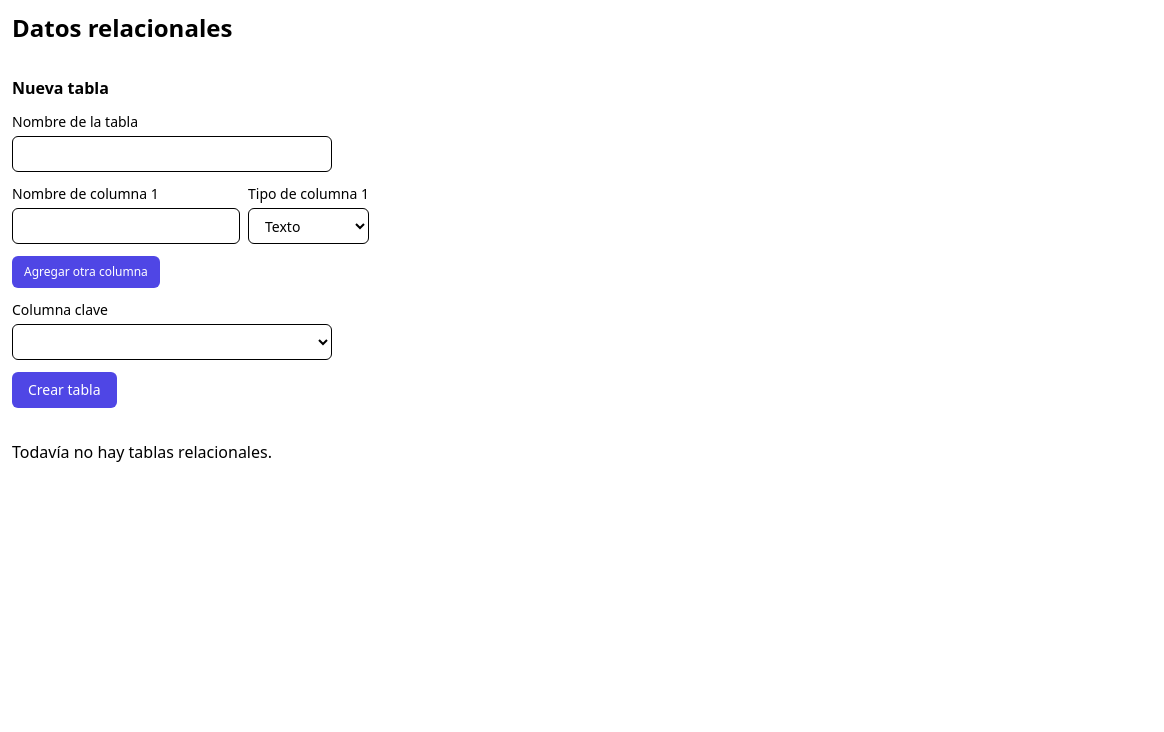
Test: relational tables › creates the "mascotas" table with typed columns
expect the text "Todavía no hay tablas relacionales." is shown: met, box [12,441,272,463]
Type "mascotas" into the field labelled "Nombre de la tabla" at {"x": 172, "y": 154}, box [12,136,332,172]
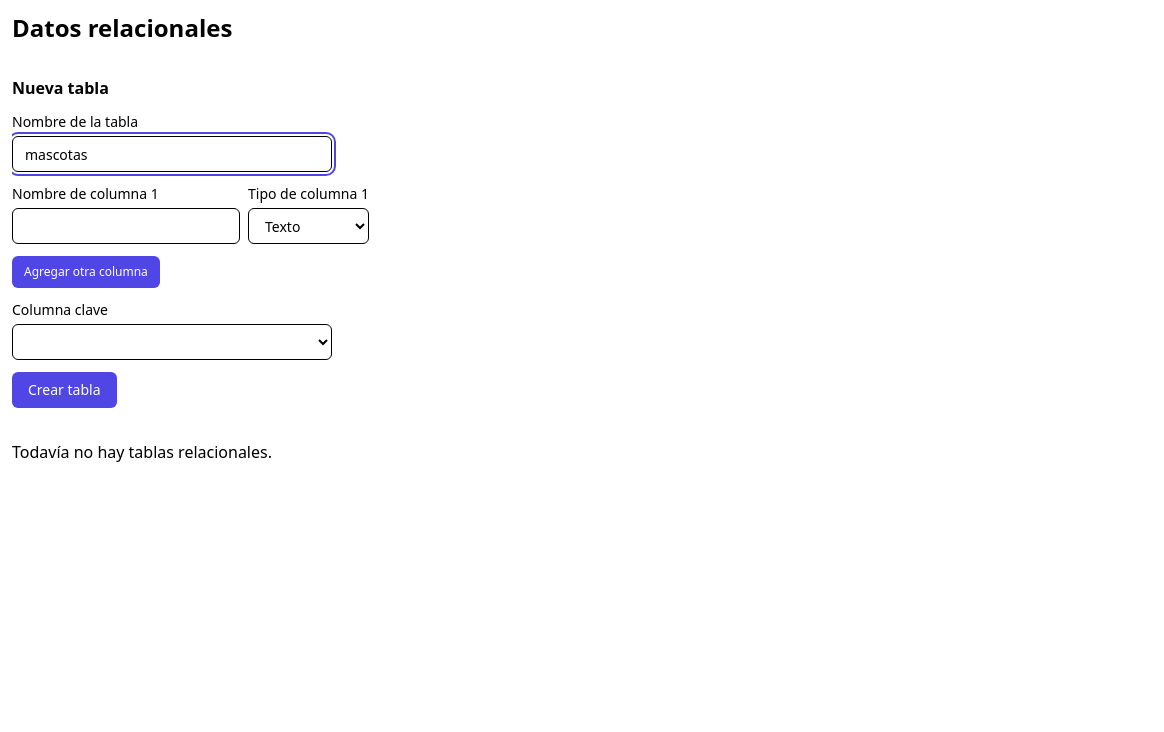
Type "nombre" into the field labelled "Nombre de columna 1" at {"x": 126, "y": 226}, box [12,208,240,244]
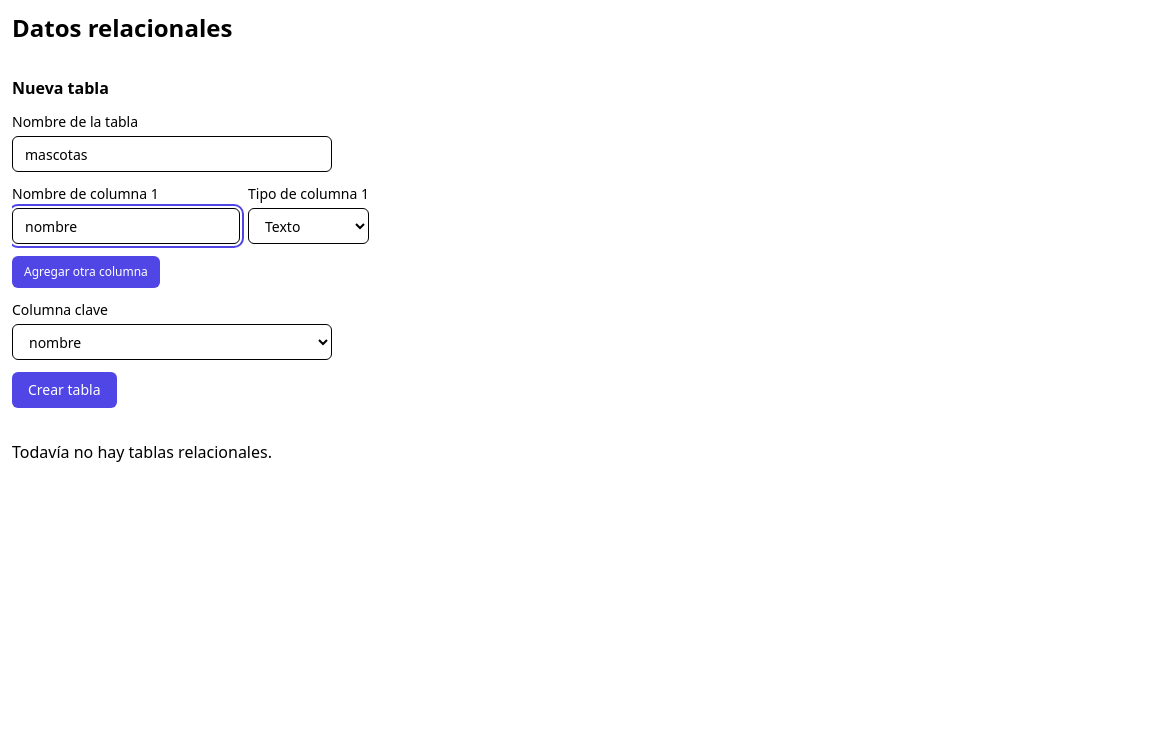
Click the button "Agregar otra columna" at {"x": 86, "y": 272}, box [12,256,160,288]
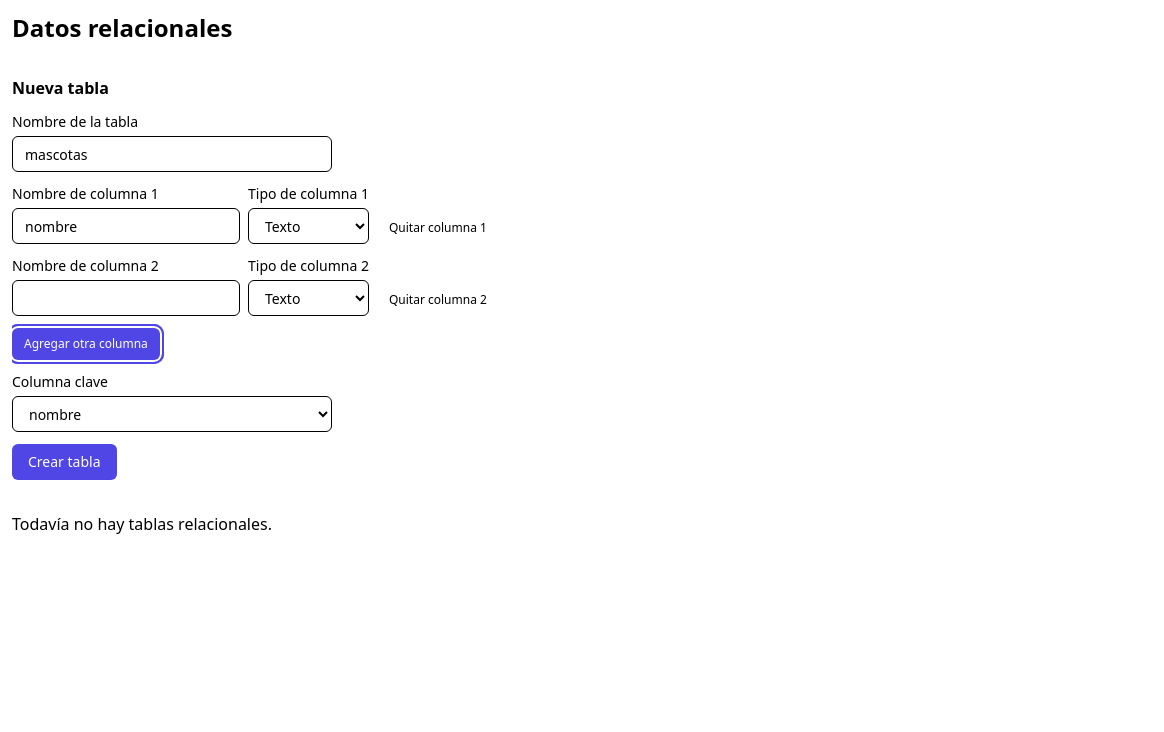
Type "especie" into the field labelled "Nombre de columna 2" at {"x": 126, "y": 298}, box [12,280,240,316]
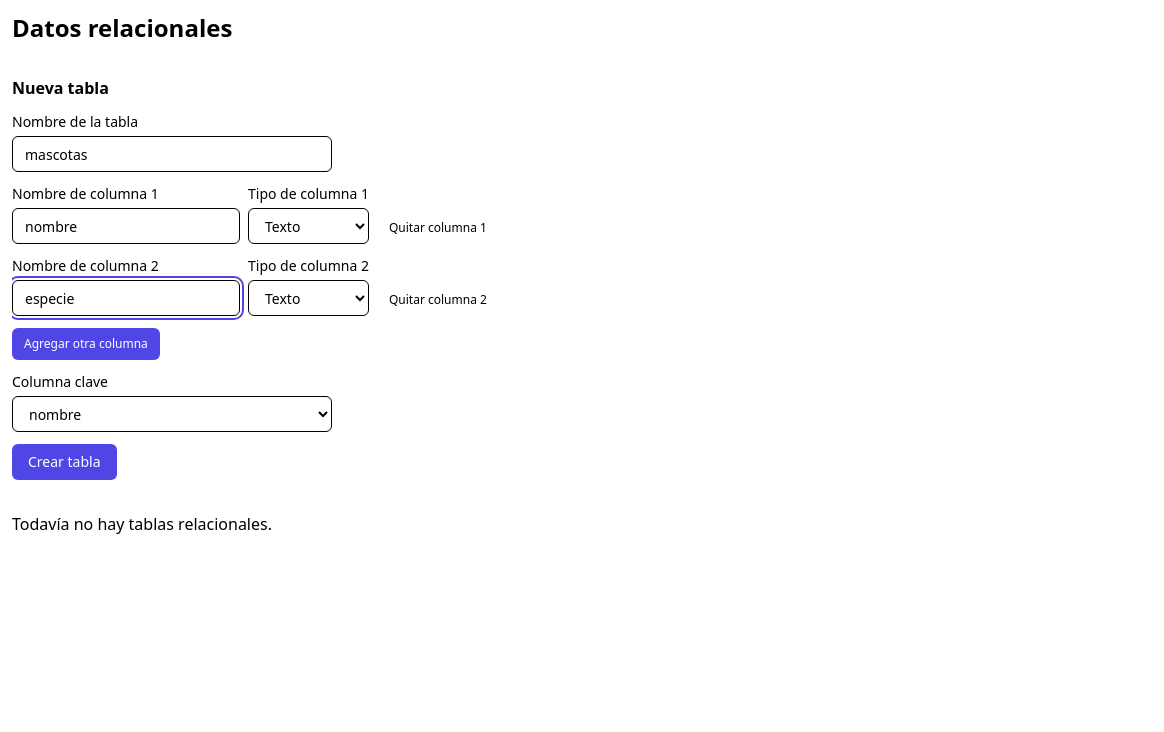
Select "Texto" in the dropdown labelled "Tipo de columna 2" at {"x": 308, "y": 298}, box [248,280,369,316]
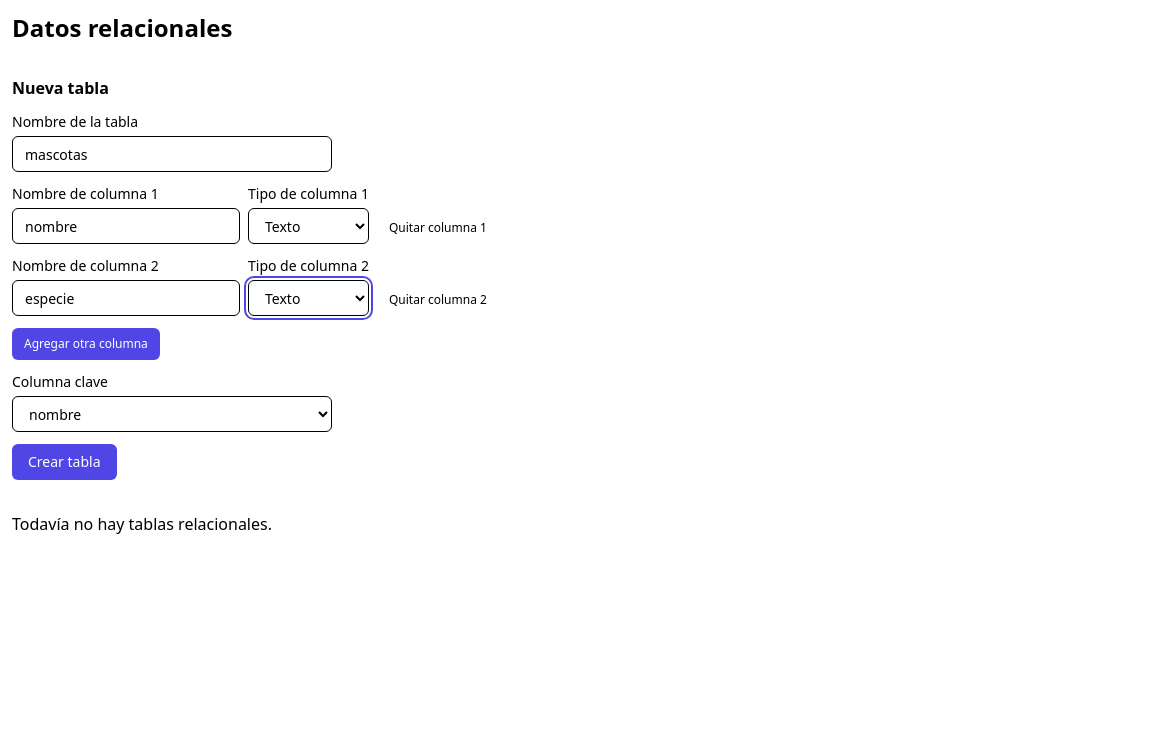
Click the button "Crear tabla" at {"x": 64, "y": 462}, box [12,444,116,480]
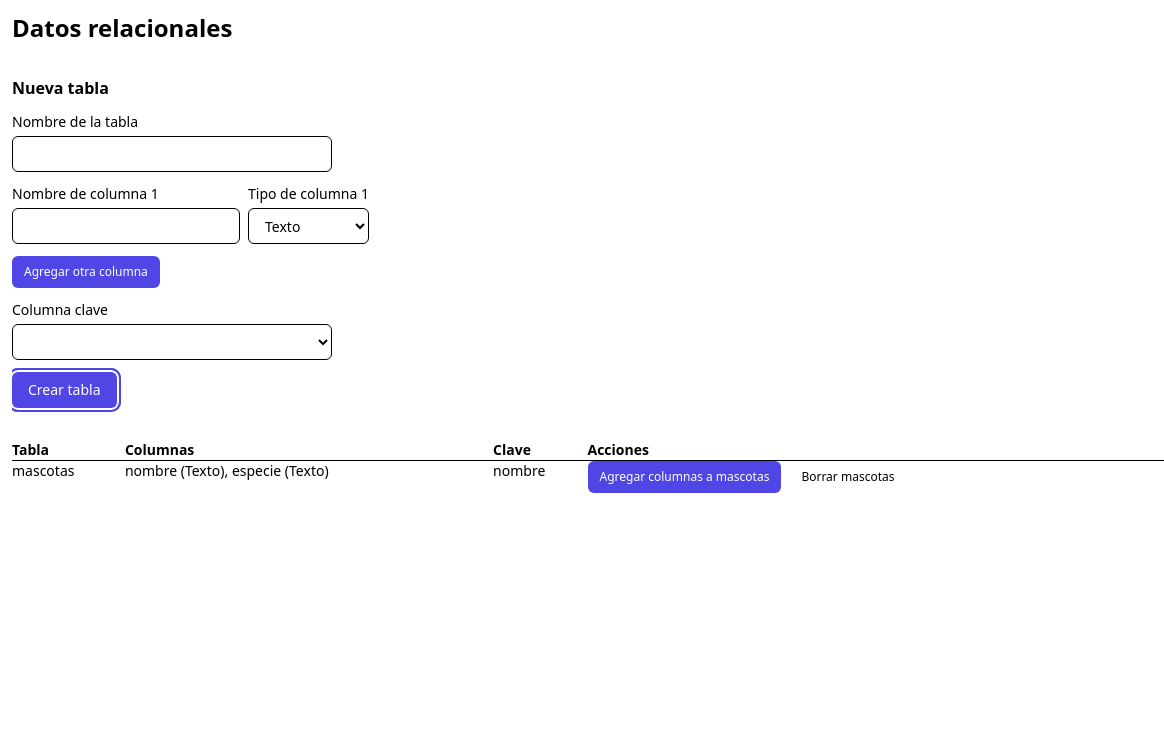
expect the column heading "mascotas" is shown: met, box [12,460,125,493]
